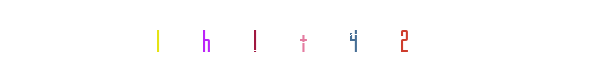1: (118, 0, 198, 80)
2: (314, 0, 394, 80)
4: (311, 0, 391, 80)
H: (165, 0, 245, 80)
L: (265, 0, 345, 80)
T: (270, 0, 350, 80)
